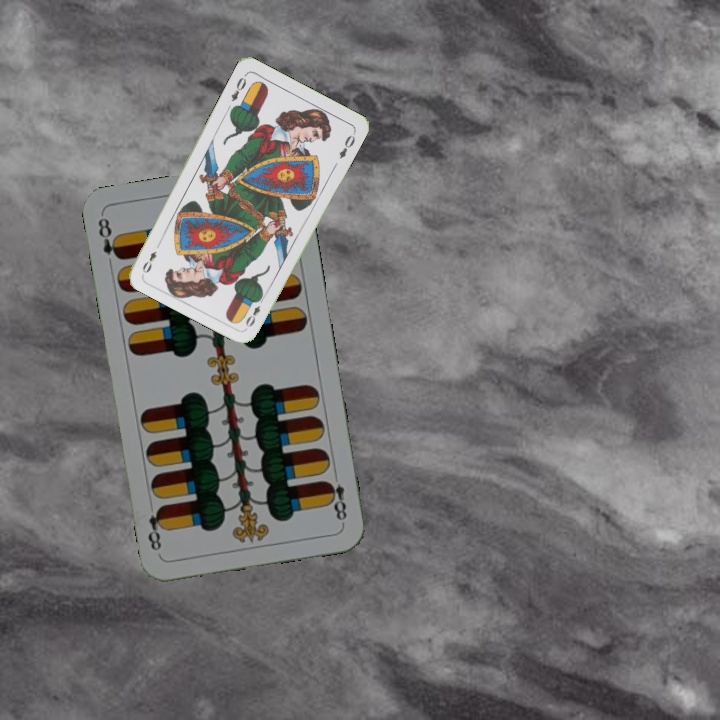E8: (94, 213, 124, 263), (322, 477, 349, 526)
EO: (241, 292, 267, 330), (227, 70, 249, 104)
